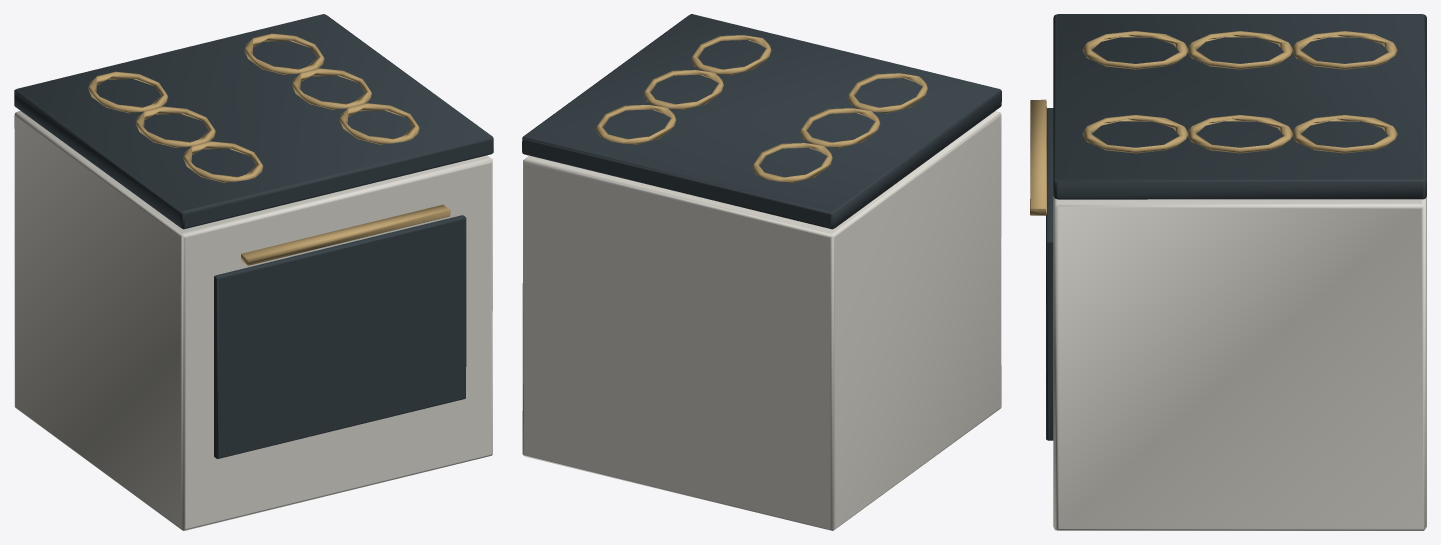
The model's file is stove-8-3.lod.glb.
3 views of the same model, side by side, from view 1: azimuth 30°, elevation 25°; view 2: azimuth 150°, elevation 25°; view 3: azimuth 270°, elevation 25° (orthographic). The views are drawn at different scales.
Visible parts, largest first — view 1: upholstery (×2), part; view 2: upholstery (×2), part; view 3: upholstery (×2), part.
Boxes of the visible parts, x1,y1,x2,y2 form: upholstery (×2): (14, 14, 493, 530); part: (88, 33, 450, 265); upholstery (×2): (522, 14, 1001, 530); part: (596, 35, 927, 182); upholstery (×2): (1046, 14, 1426, 530); part: (1030, 31, 1397, 215).
Size of the model in its own units: 1 by 1 by 1.
